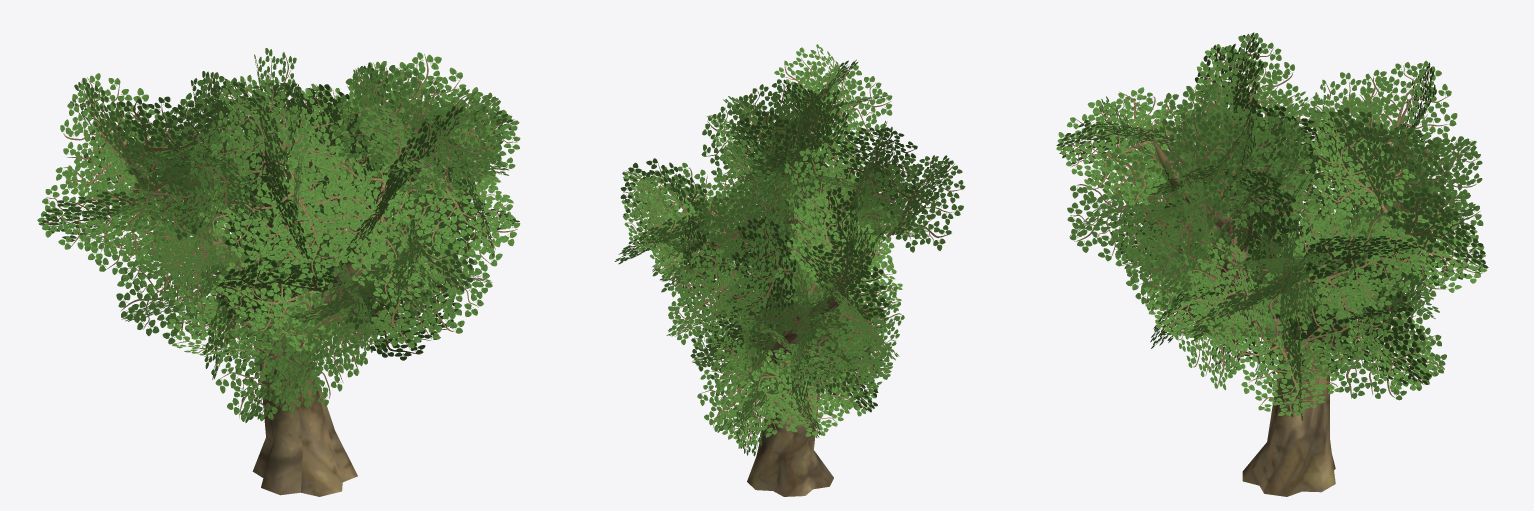
The model's file is LowPoly_Tree.dae.
The picture shows the model from 3 angles, left to right: view 1: azimuth 30°, elevation 25°; view 2: azimuth 150°, elevation 25°; view 3: azimuth 270°, elevation 25°; orthographic projection. The views are drawn at different scales.
Visible parts, largest first — view 1: Plane.044; view 2: Plane.044; view 3: Plane.044.
Part boxes in pixels (<box>): Plane.044: <box>37,48,520,496</box>; Plane.044: <box>614,44,965,496</box>; Plane.044: <box>1056,32,1488,496</box>.
Size of the model in its own units: 8.06 by 8.05 by 7.84.
2 materials, 2 textured.
